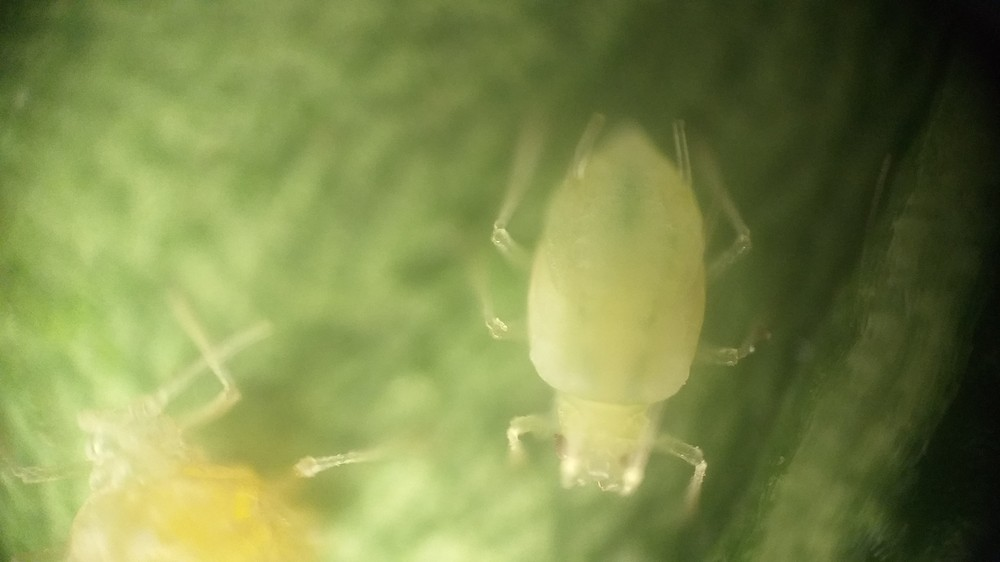Pulgon: (449, 92, 797, 519), (6, 297, 372, 562)
